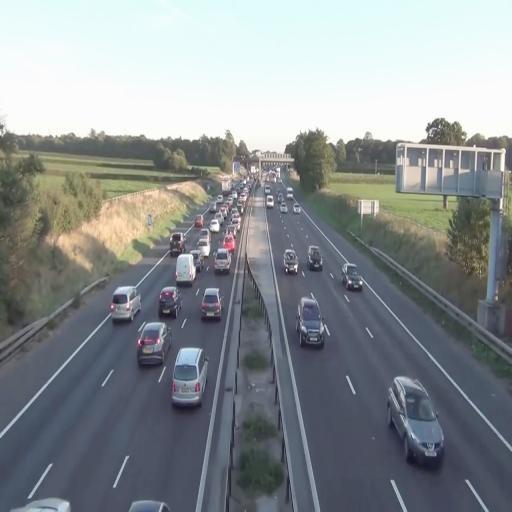vehicle: (387, 375, 445, 466), (171, 346, 209, 408), (136, 322, 172, 368), (297, 296, 324, 348), (110, 286, 141, 323), (200, 287, 222, 322), (158, 286, 180, 319), (175, 255, 197, 287), (343, 263, 362, 290), (282, 248, 300, 274), (213, 249, 230, 274), (307, 244, 323, 270), (344, 271, 364, 291)
